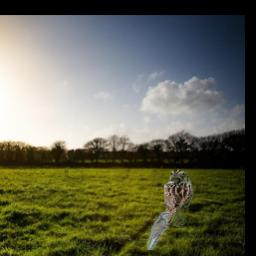Cuckoo: (146, 212, 169, 250)
Sparrow: (164, 169, 194, 227)
